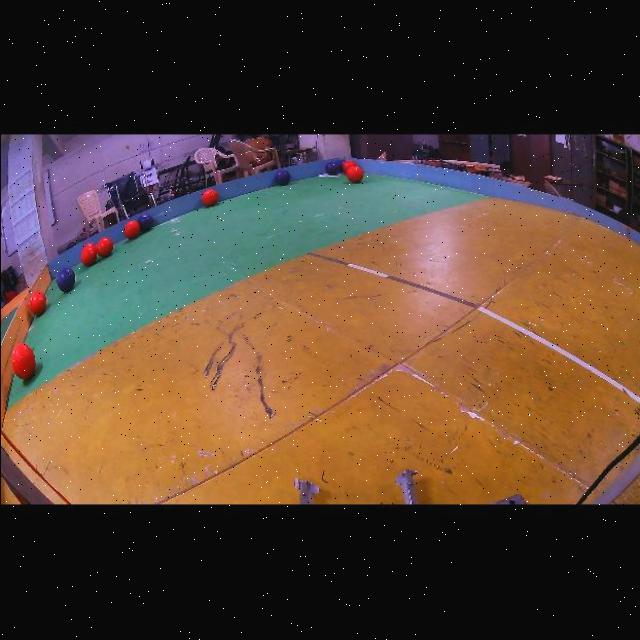P: (56, 266, 74, 291), (136, 212, 153, 230), (274, 167, 289, 184), (324, 159, 339, 174), (337, 157, 344, 167)
R: (11, 342, 34, 378), (29, 289, 46, 314), (95, 235, 113, 256), (123, 219, 140, 238), (79, 246, 96, 265), (200, 188, 217, 205), (344, 165, 362, 181), (341, 158, 356, 171), (82, 241, 95, 250)
